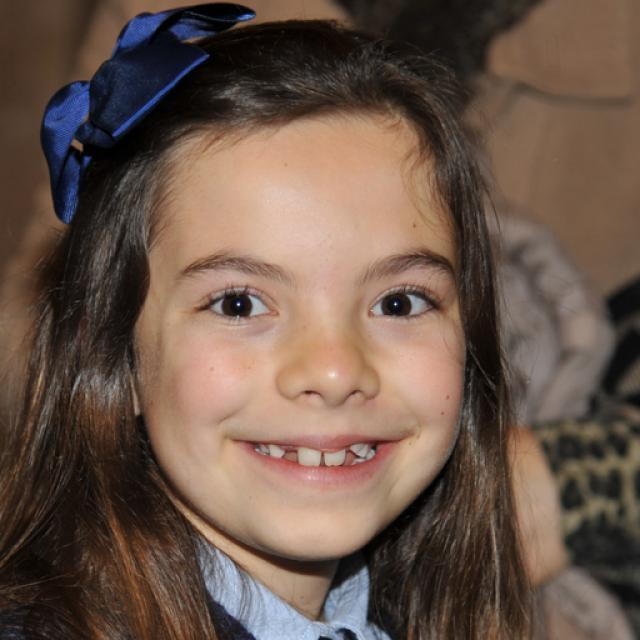happy: (129, 114, 469, 562)
